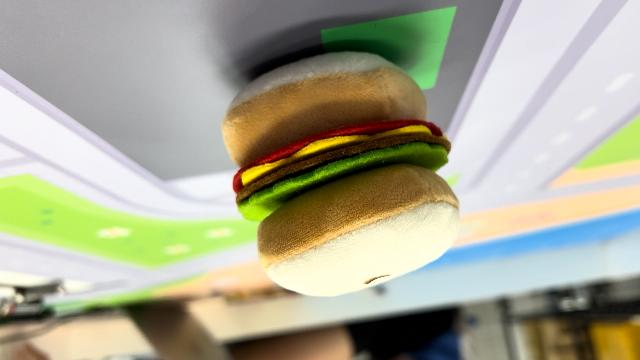sandwich: (219, 49, 463, 297)
